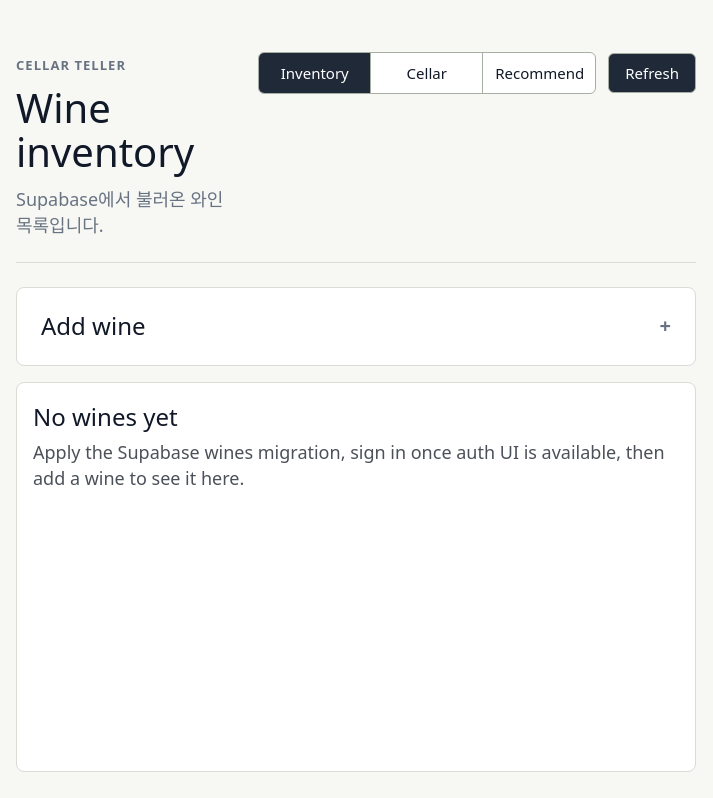
Test: App › saves a wine with form values
The width and height of the screenshot is (713, 798).
Click the button "Add wine": (93,326) [41,309,146,342]
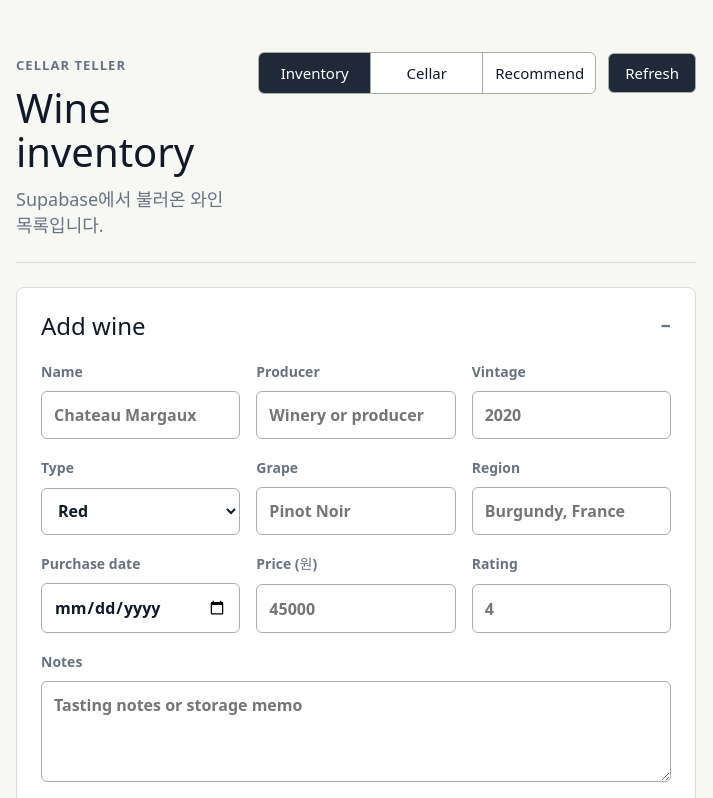
In the field labelled "Name": (141,415) [41,391,240,439], type "Ridge Estate"
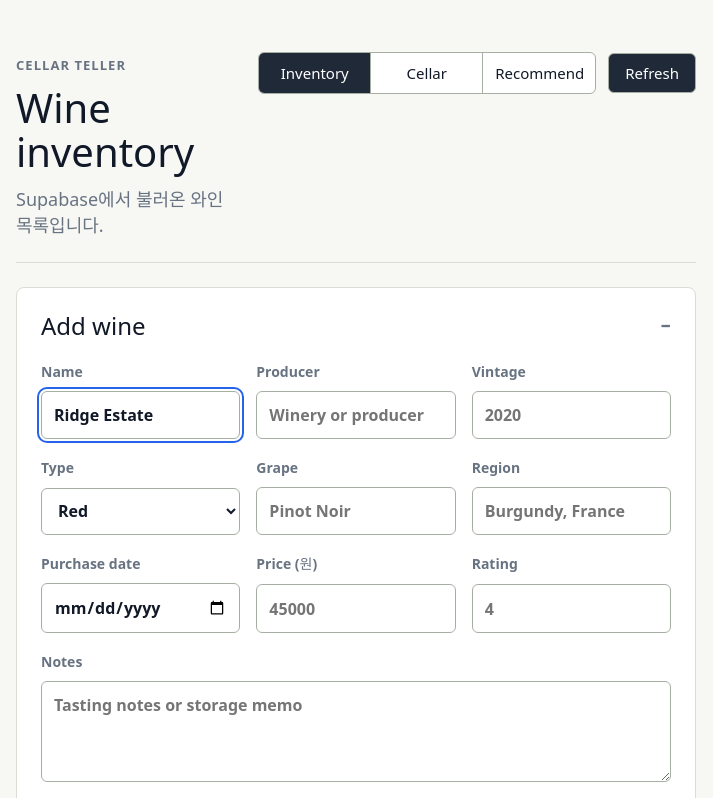
In the field labelled "Producer": (356,415) [256,391,456,439], type "Ridge Vineyards"
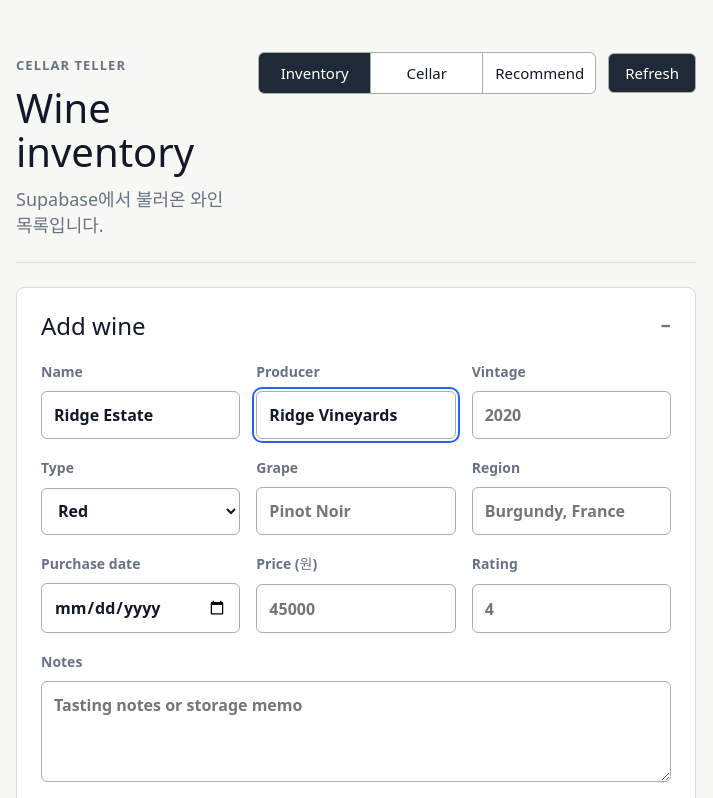
In the number field labelled "Vintage": (571,415) [472,391,671,439], type "2021"
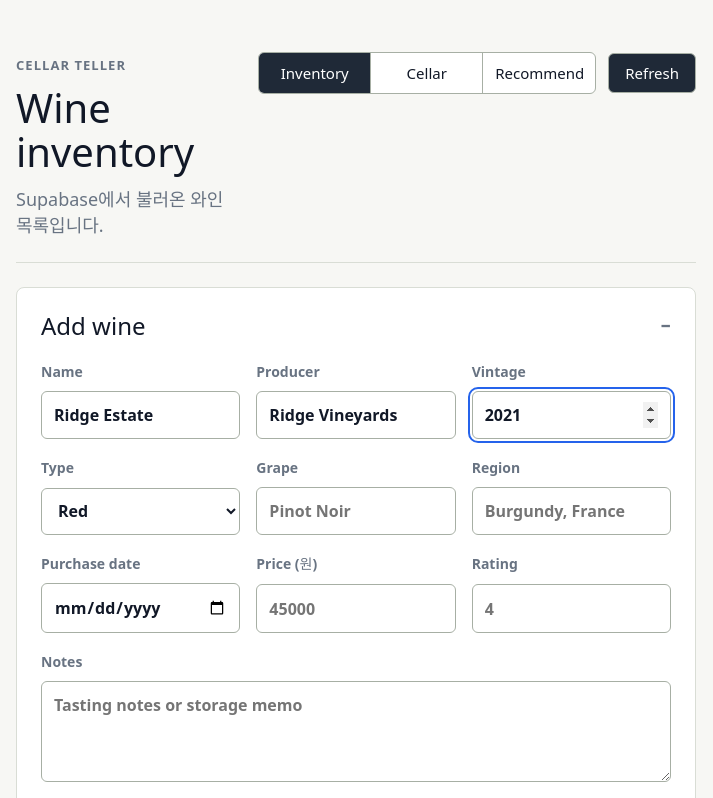
In the number field labelled "Price (원)": (356,609) [256,584,456,633], type "45.5"
(page scrolled)
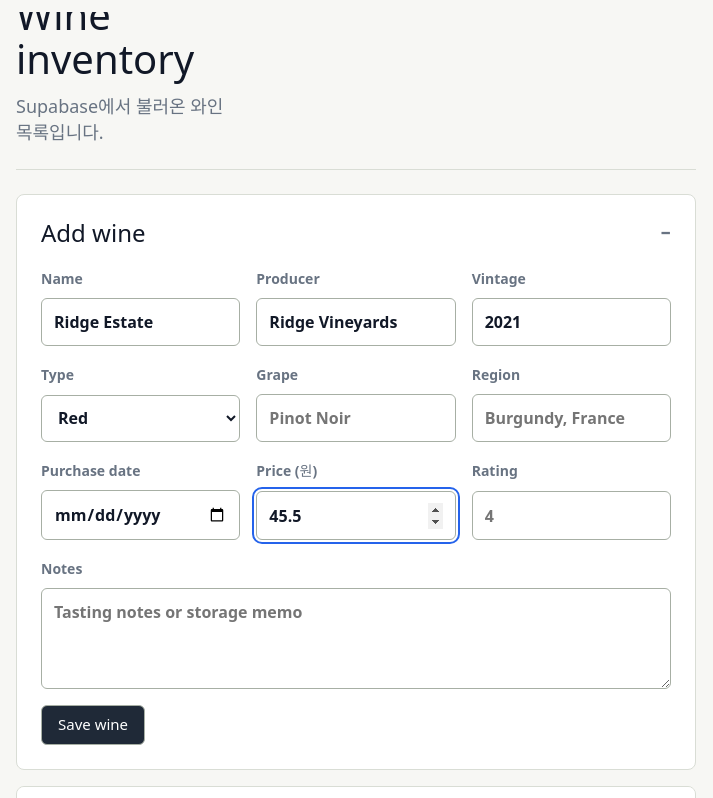
Click the button "Save wine": (93,724) [41,704,145,744]
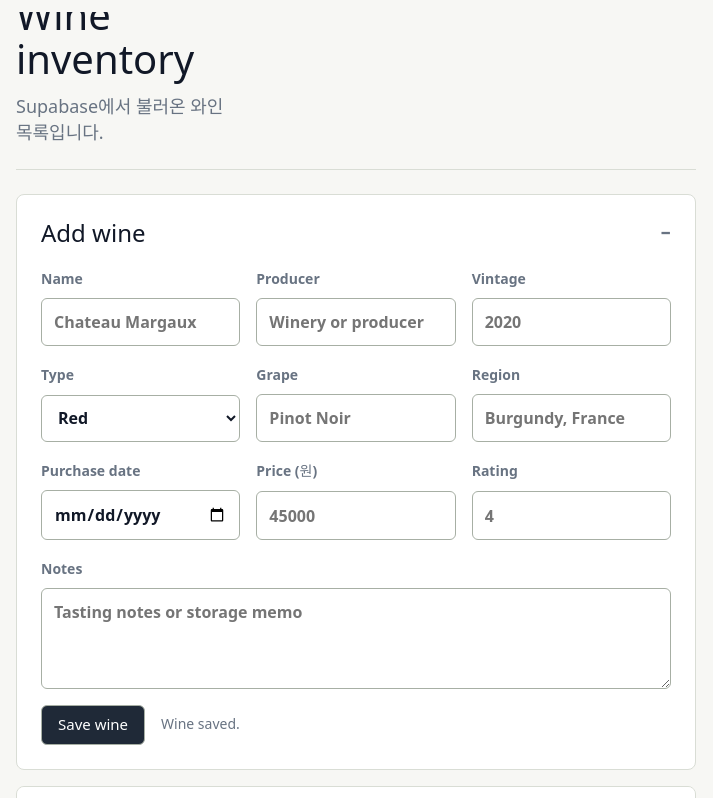
Now the text "Wine saved." is shown, box [161,712,240,738]
